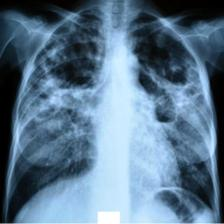tuberculosis: (11, 2, 217, 224)
